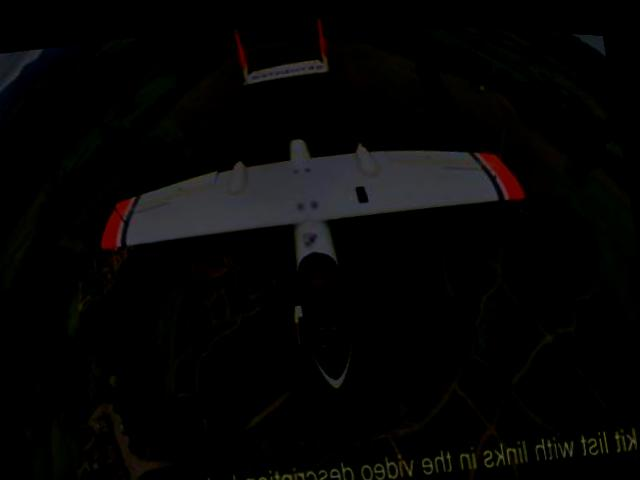uav: (58, 3, 564, 441)
